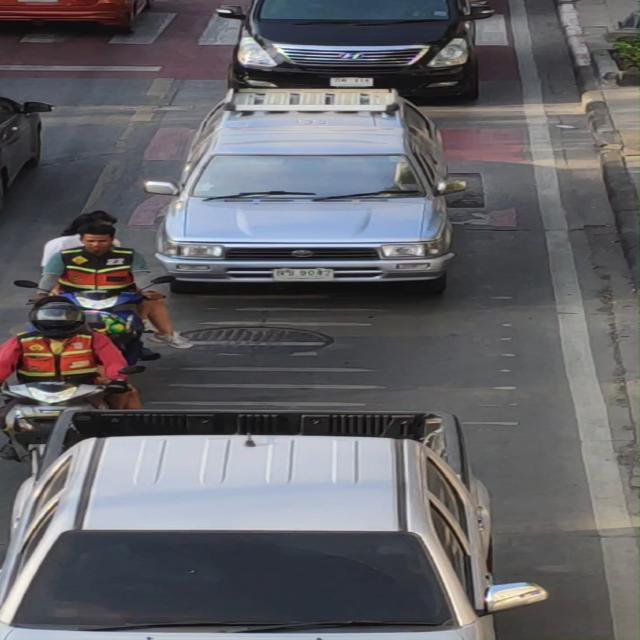car: (132, 85, 491, 297)
